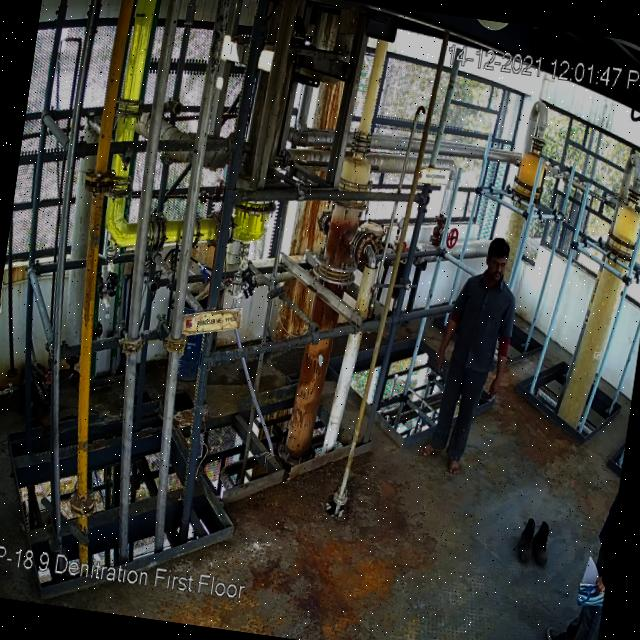boots: (514, 514, 542, 566), (531, 520, 555, 566)
no-boots: (416, 441, 444, 459), (442, 457, 462, 479)
